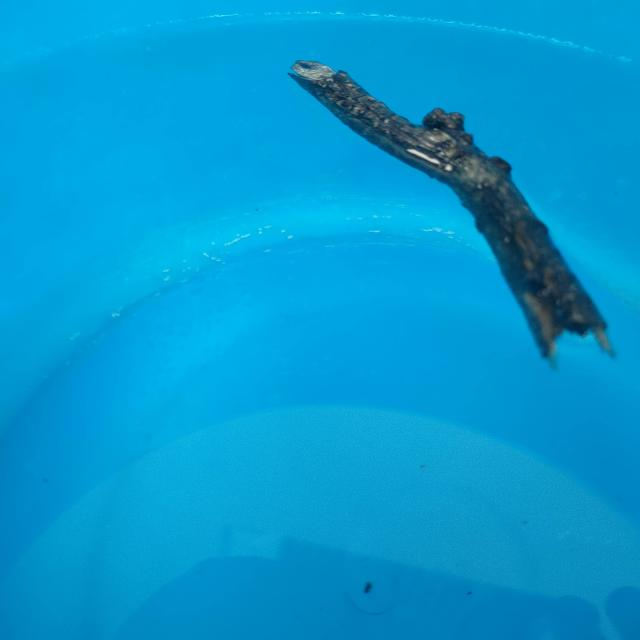wood: (273, 51, 624, 362)
